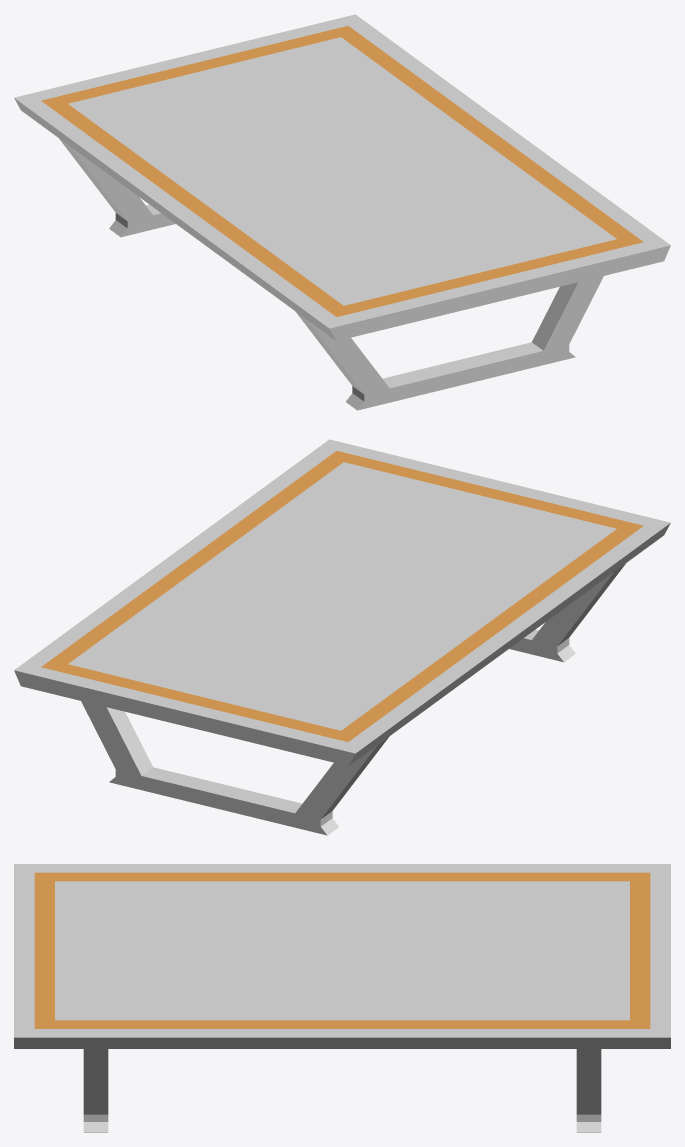
Rendered from table.fbx.
The picture shows the model from 3 angles, top to bottom: view 1: azimuth 30°, elevation 25°; view 2: azimuth 150°, elevation 25°; view 3: azimuth 270°, elevation 25°; orthographic projection. The views are drawn at different scales.
Parts seen in each view (by area): view 1: 立方体, 平面, 立方体.001, 立方体.002; view 2: 立方体, 平面, 立方体.002, 立方体.001; view 3: 立方体, 平面, 立方体.001, 立方体.002.
Boxes of the visible parts, box(x1,y1,x2,y2) form: 立方体: box(14, 14, 670, 340); 平面: box(41, 26, 643, 316); 立方体.001: box(295, 276, 603, 410); 立方体.002: box(59, 138, 175, 237); 立方体: box(14, 439, 670, 765); 平面: box(41, 451, 643, 741); 立方体.002: box(81, 701, 389, 835); 立方体.001: box(509, 563, 625, 662); 立方体: box(14, 864, 670, 1048); 平面: box(34, 872, 650, 1028); 立方体.001: box(83, 1049, 108, 1132); 立方体.002: box(576, 1049, 601, 1132).
Size of the model in its own units: 500 by 170 by 800.
